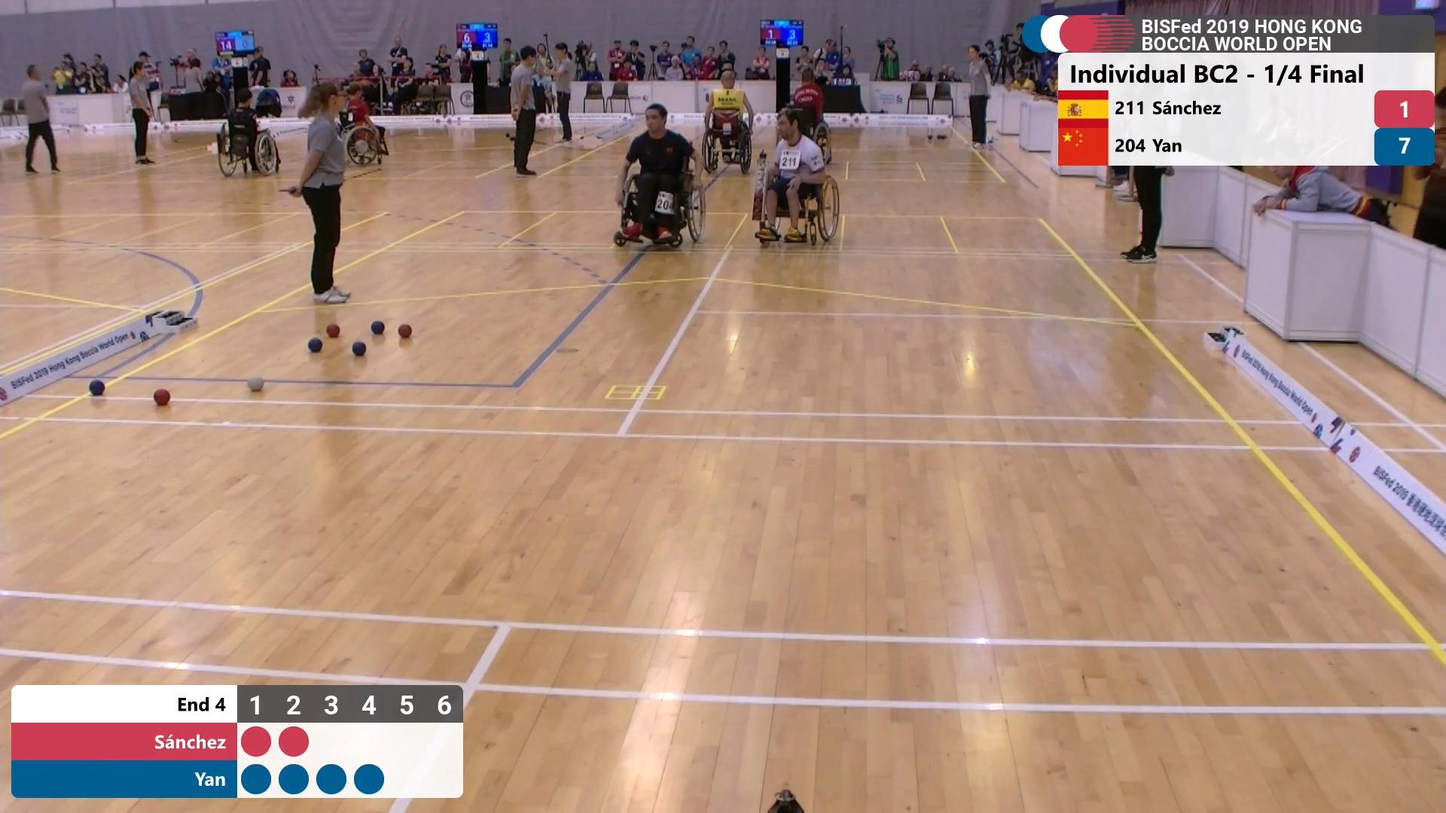blue_ball: (88, 379, 106, 397), (306, 337, 323, 354), (351, 341, 368, 358), (370, 319, 386, 335)
red_ball: (152, 387, 171, 407), (396, 323, 413, 339), (325, 323, 341, 339)
white_ball: (246, 374, 266, 393)
